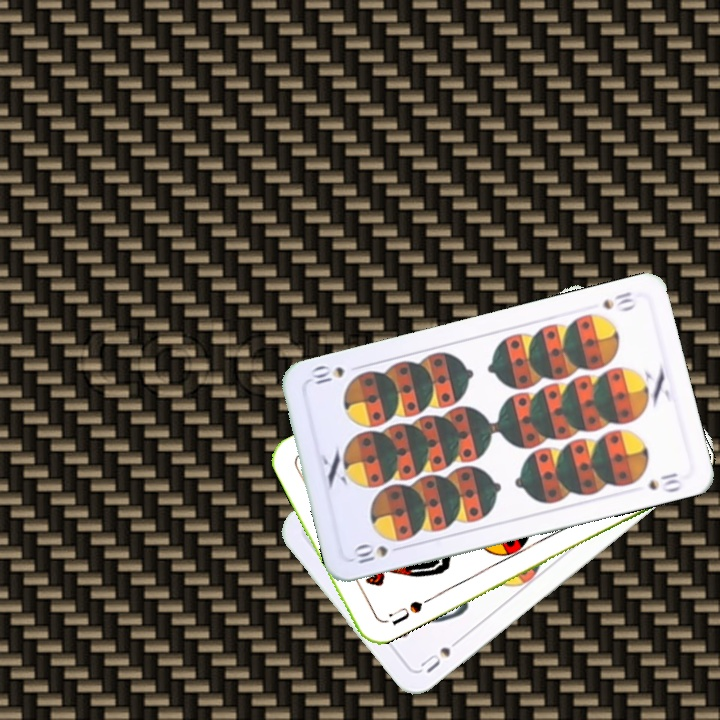S10: (598, 287, 640, 314), (349, 541, 390, 567)
SU: (416, 631, 466, 676), (384, 596, 425, 628)
